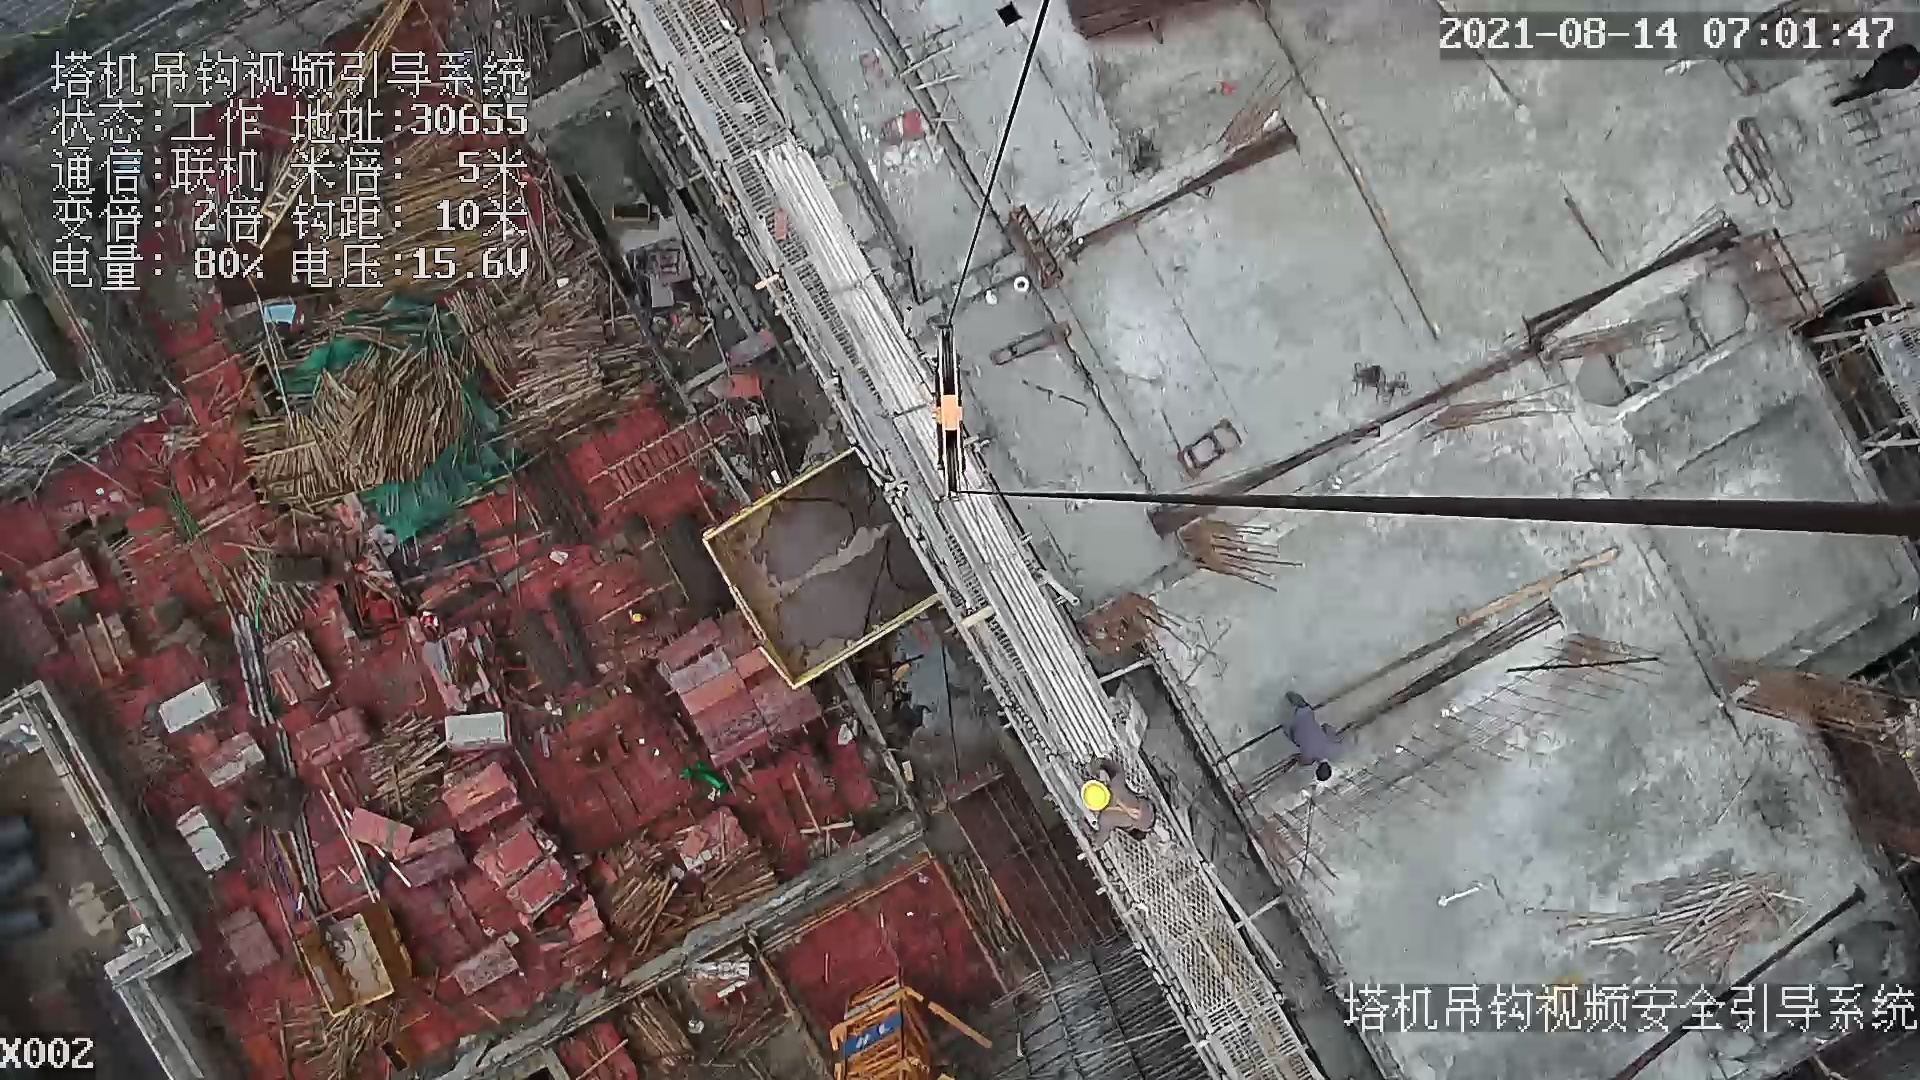helmet: (1076, 773, 1118, 815)
hook: (924, 322, 976, 509)
person: (1085, 754, 1159, 851), (1274, 691, 1340, 785), (1827, 51, 1920, 114)
